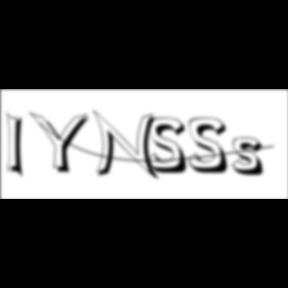I: (7, 110, 31, 182)
N: (93, 109, 163, 183)
S: (148, 117, 194, 176), (189, 117, 235, 176)
Y: (29, 110, 96, 176)
s: (232, 137, 270, 179)
